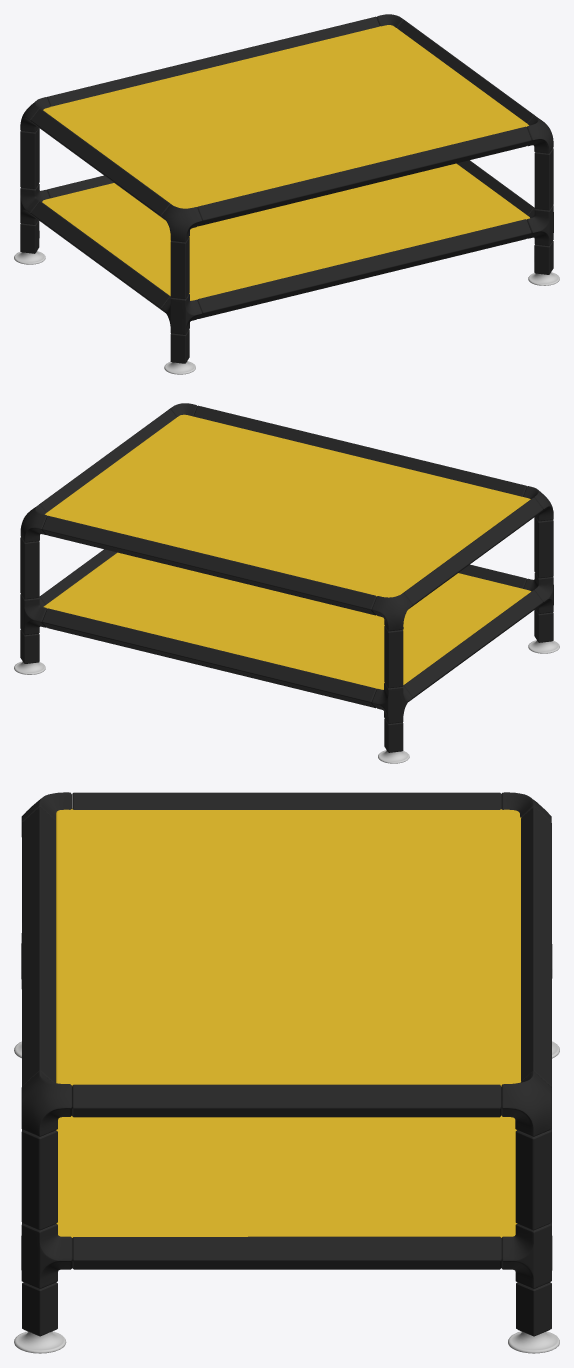
3 views of the same model, one above another, from view 1: azimuth 30°, elevation 25°; view 2: azimuth 150°, elevation 25°; view 3: azimuth 270°, elevation 25° (orthographic). The views are drawn at different scales.
Parts seen in each view (by area): view 1: 479x329x79; view 2: 479x329x79; view 3: 479x329x79.
Part boxes in pixels (<box>): 479x329x79: <box>14,14,559,374</box>; 479x329x79: <box>14,403,559,763</box>; 479x329x79: <box>14,792,559,1353</box>.
Size of the model in its own units: 0.5689 by 0.2184 by 0.4183.
